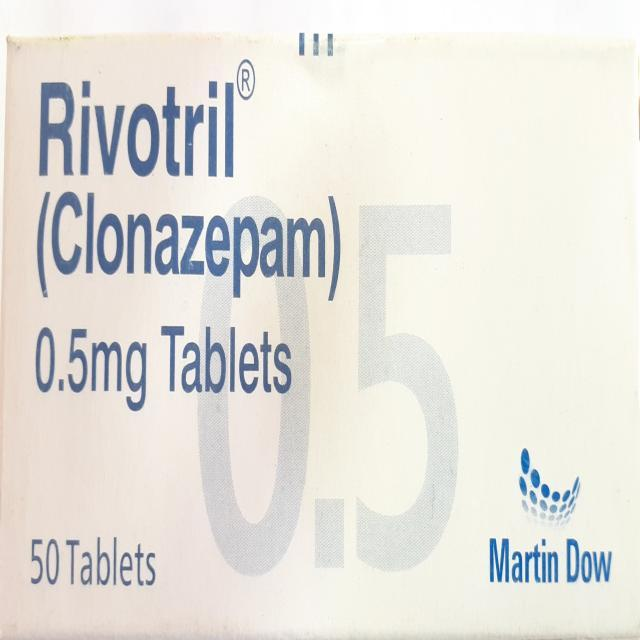drug-name: (37, 76, 237, 182)
